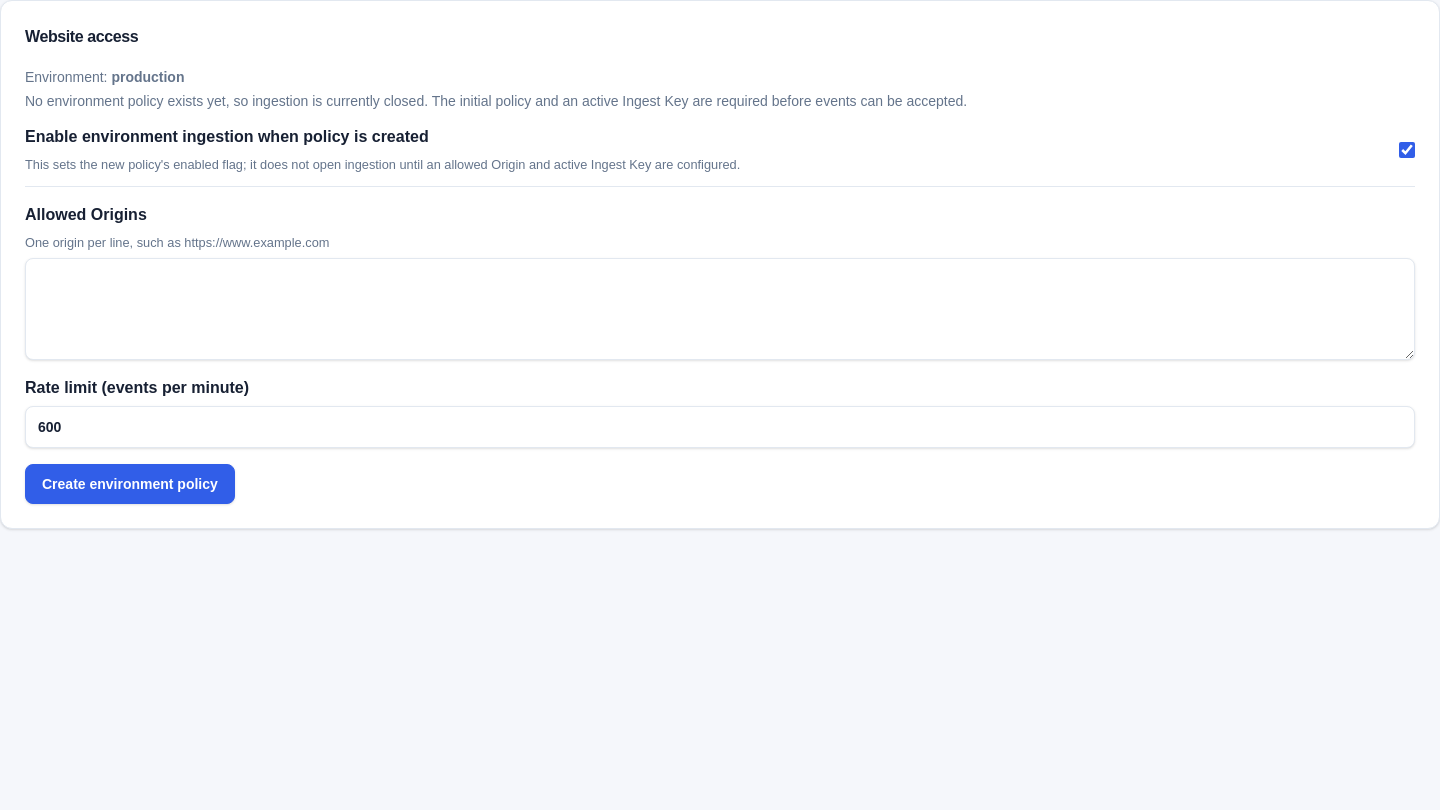
Scenario: EnvironmentPolicyPresenter flow › keeps conflict errors visible with the reload action
The width and height of the screenshot is (1440, 810).
Click the button "Create environment policy" at (130, 484), box [25,464,235,504]
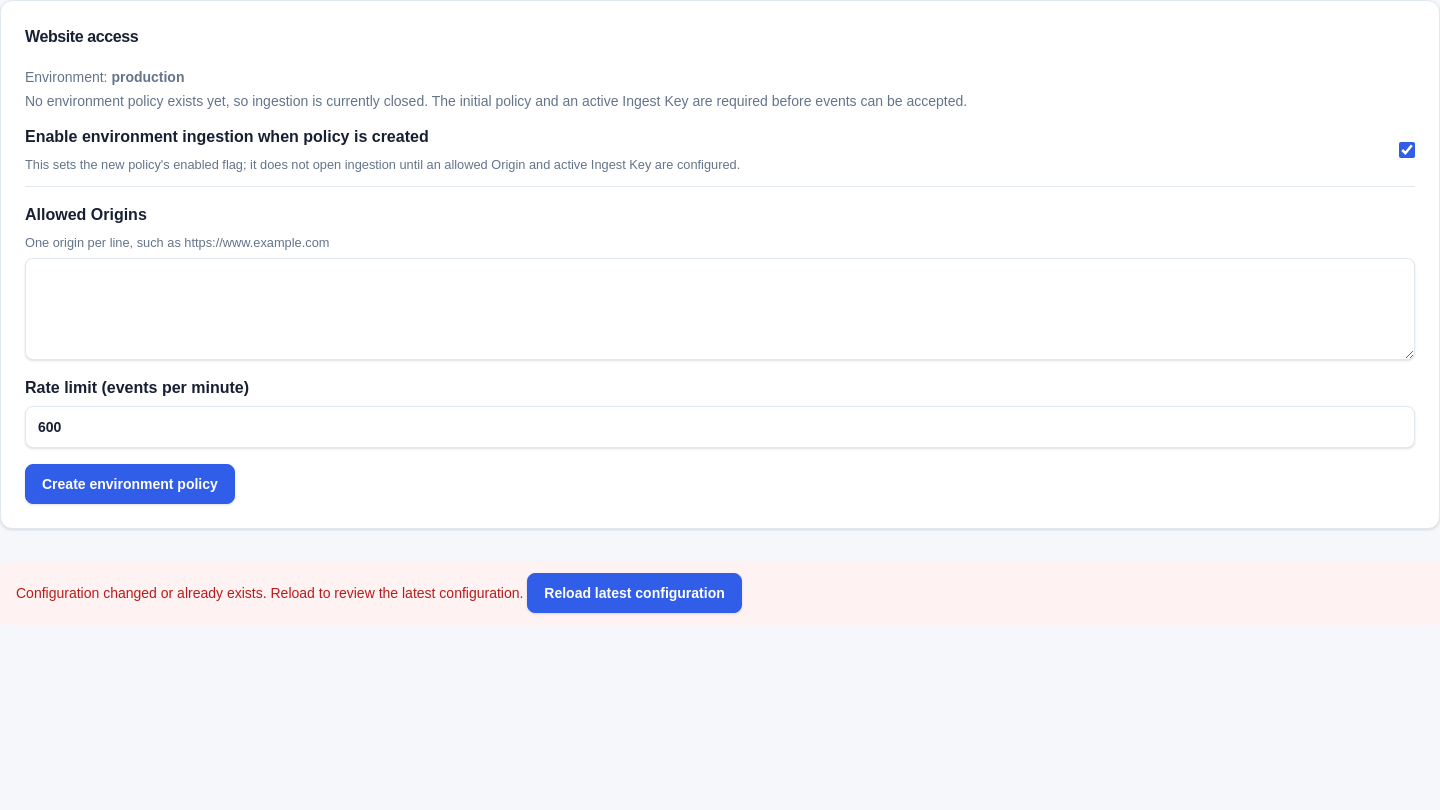
Check: the text "Configuration changed or already exists." is shown, box [16,585,523,601]
Check: the text "Reload latest configuration" is shown, box [527,573,742,613]
